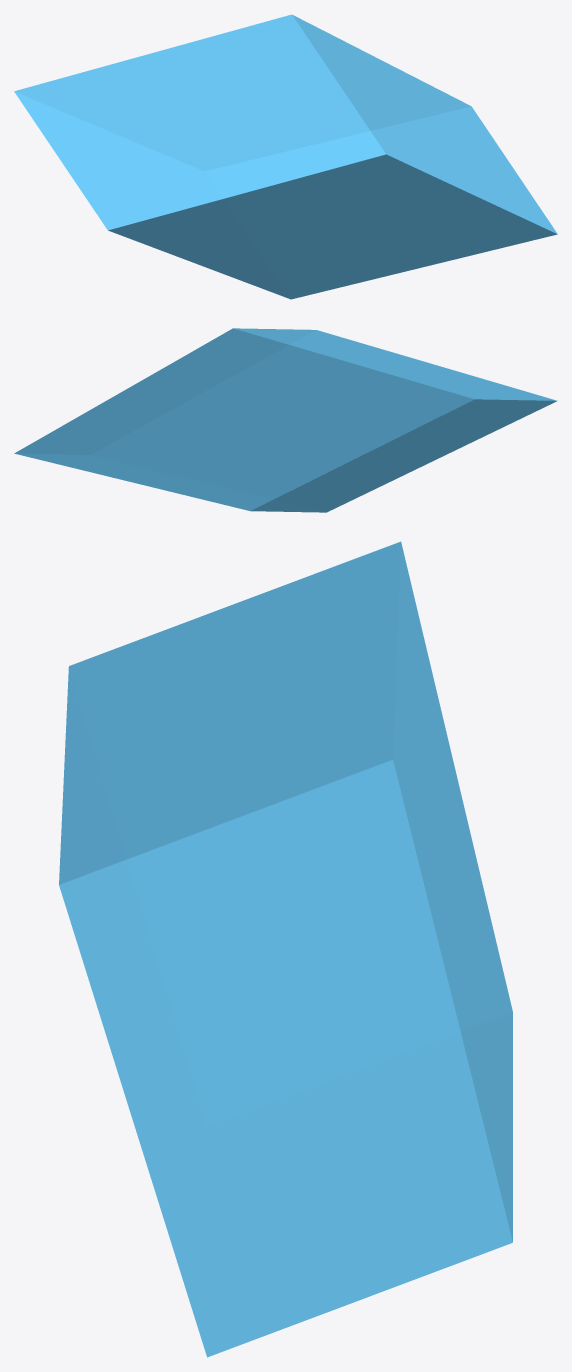
Rendered from Event_420094457_HBrechit_18.fbx.
3 views of the same model, one above another, from view 1: azimuth 30°, elevation 25°; view 2: azimuth 150°, elevation 25°; view 3: azimuth 270°, elevation 25° (orthographic). The views are drawn at different scales.
Parts seen in each view (by area): view 1: Model; view 2: Model; view 3: Model.
Boxes of the visible parts, box(x1,y1,x2,y2) form: Model: box(14, 14, 557, 299); Model: box(14, 328, 557, 512); Model: box(59, 541, 512, 1357).
Size of the model in its own units: 1.21 by 0.5536 by 0.5509.
